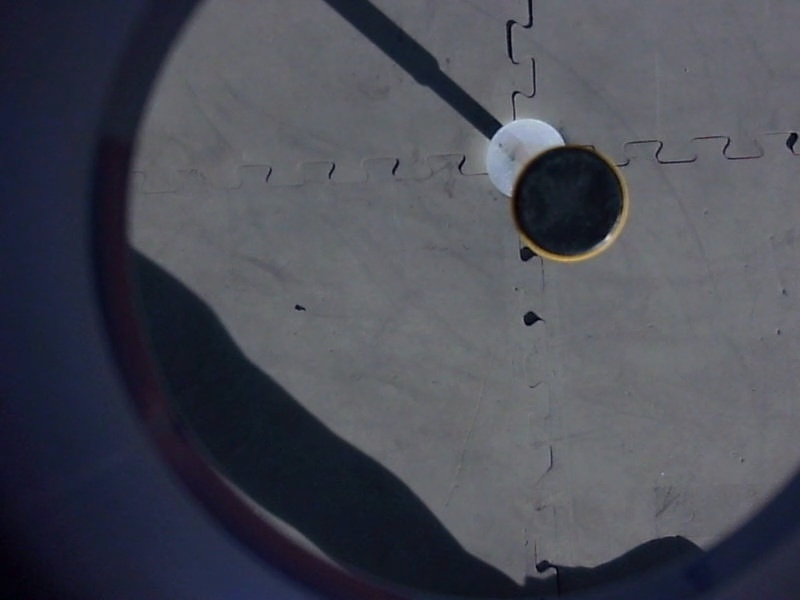tip: (506, 139, 631, 264)
